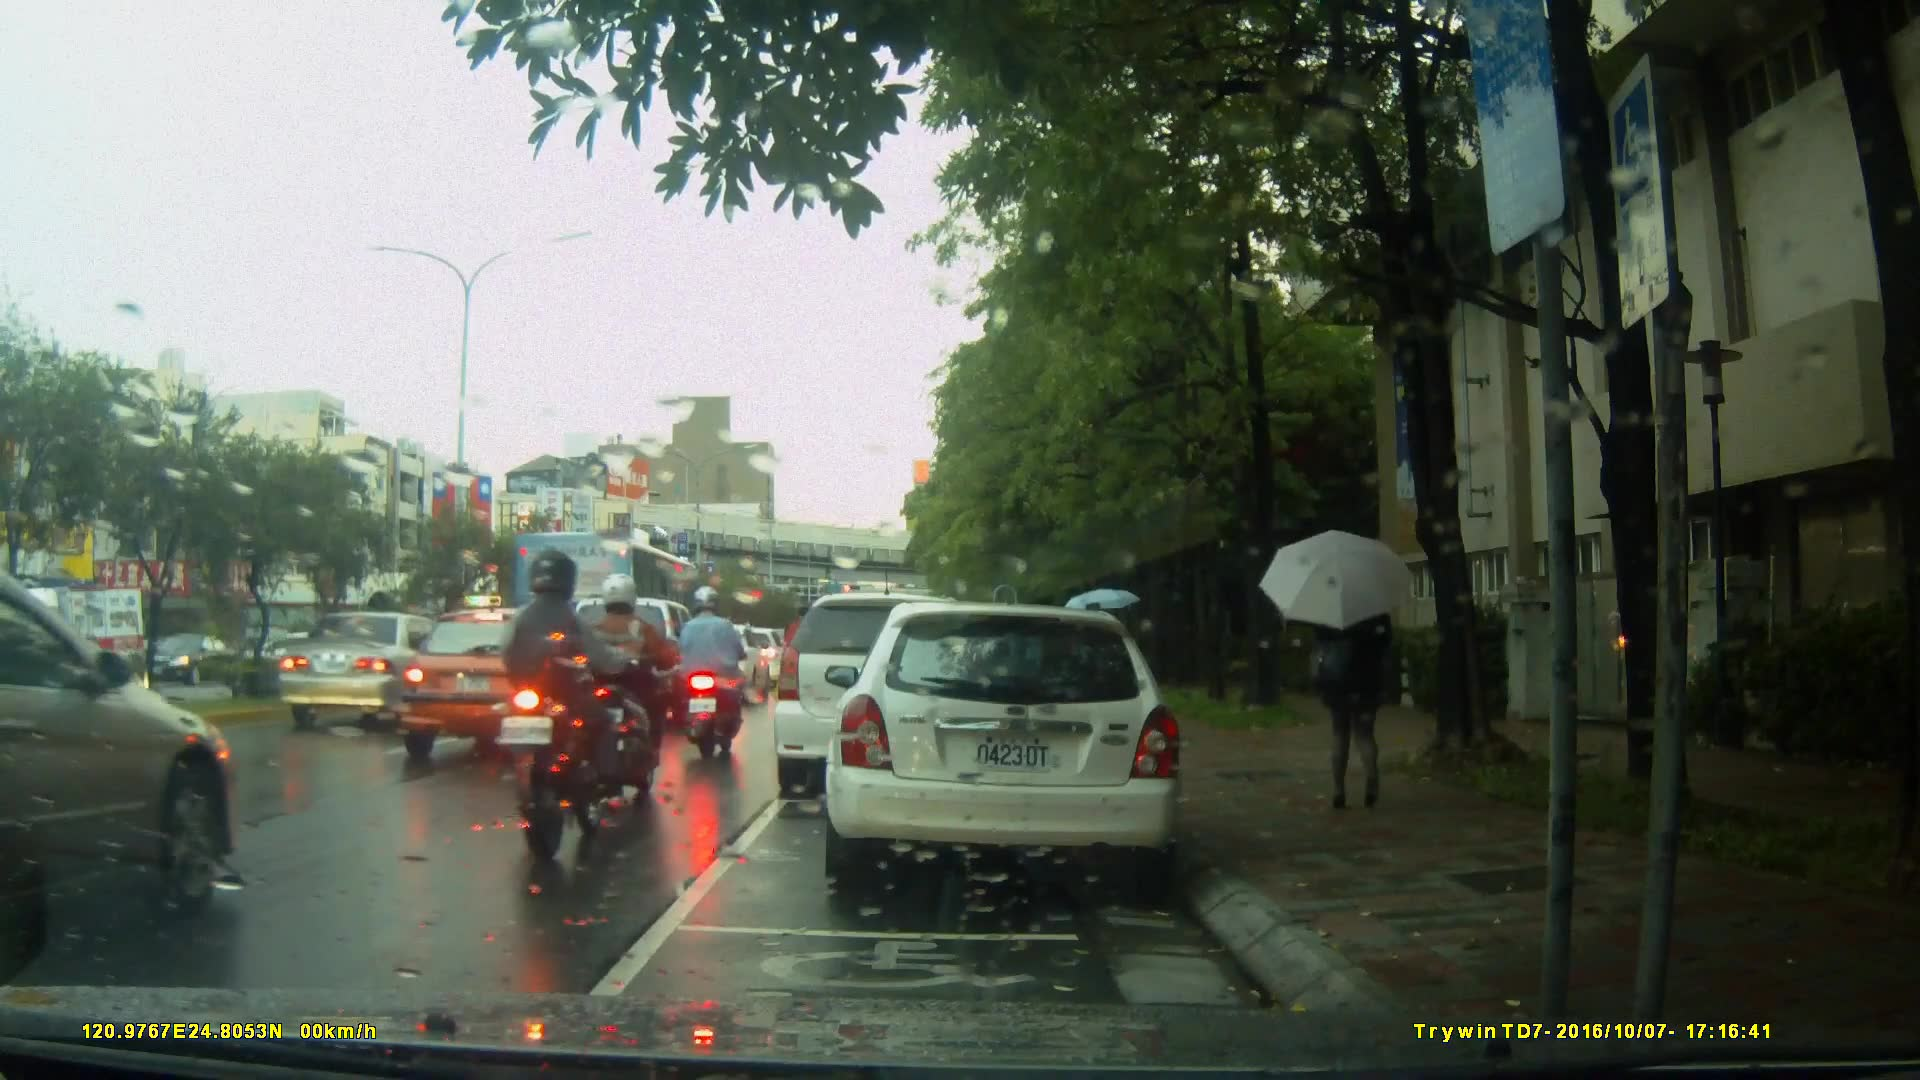pedestrian: (1287, 545, 1411, 814), (1082, 591, 1107, 733)
rider: (474, 553, 623, 860), (582, 571, 685, 800), (666, 580, 748, 766)
vehicle: (835, 594, 1194, 898), (2, 571, 234, 970), (776, 590, 1026, 784), (390, 606, 626, 767), (512, 528, 713, 669), (275, 611, 478, 733), (1, 586, 157, 697)
